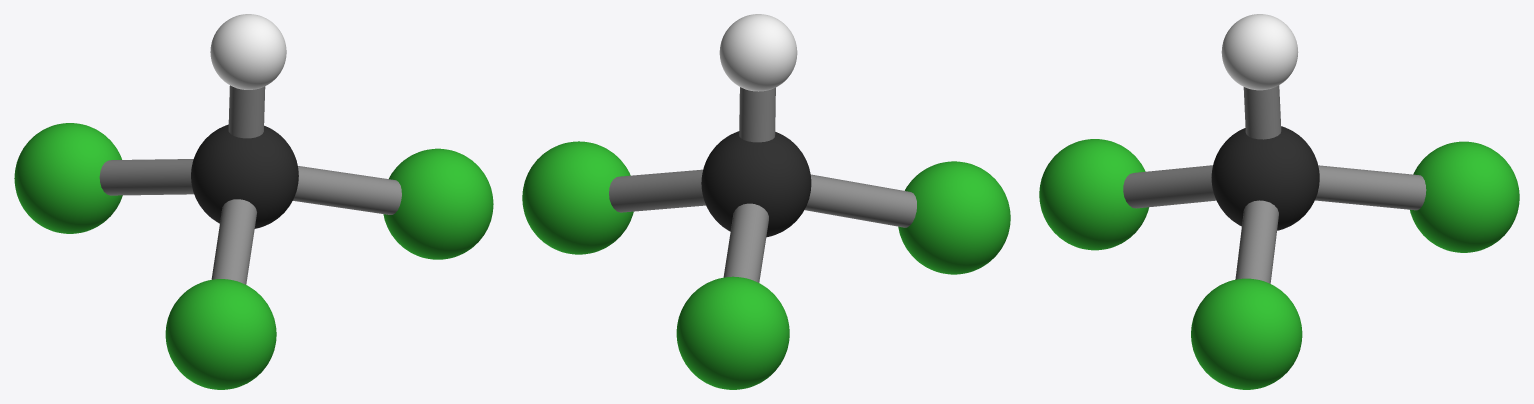
The model's file is trichlormethan.glb.
The picture shows the model from 3 angles, left to right: view 1: azimuth 30°, elevation 25°; view 2: azimuth 150°, elevation 25°; view 3: azimuth 270°, elevation 25°; orthographic projection.
Parts seen in each view (by area): view 1: Cl_2, Cl_3, Cl_0, C_1, H_4, B2, B0, B1, B3; view 2: Cl_0, Cl_2, Cl_3, C_1, H_4, B1, B2, B0, B3; view 3: Cl_3, Cl_0, Cl_2, C_1, H_4, B0, B1, B2, B3.
Boxes of the visible parts, x1,y1,x2,y2 form: Cl_2: (165,279,276,389); Cl_3: (383,148,493,259); Cl_0: (14,123,122,233); C_1: (191,124,298,228); H_4: (210,14,286,89); B2: (293,166,401,214); B0: (99,159,193,195); B1: (211,199,256,284); B3: (228,85,265,138); Cl_0: (676,276,789,389); Cl_2: (898,161,1010,274); Cl_3: (522,141,633,254); C_1: (701,131,811,237); H_4: (719,14,797,91); B1: (804,174,916,227); B2: (609,169,705,212); B0: (723,203,768,282); B3: (739,87,775,142); Cl_3: (1191,278,1302,389); Cl_0: (1410,141,1519,252); Cl_2: (1039,139,1148,250); C_1: (1211,126,1319,230); H_4: (1221,14,1298,90); B0: (1315,165,1426,210); B1: (1123,165,1216,208); B2: (1235,200,1278,283); B3: (1243,85,1281,139).
Size of the model in its own units: 3.53 by 2.44 by 3.77.
